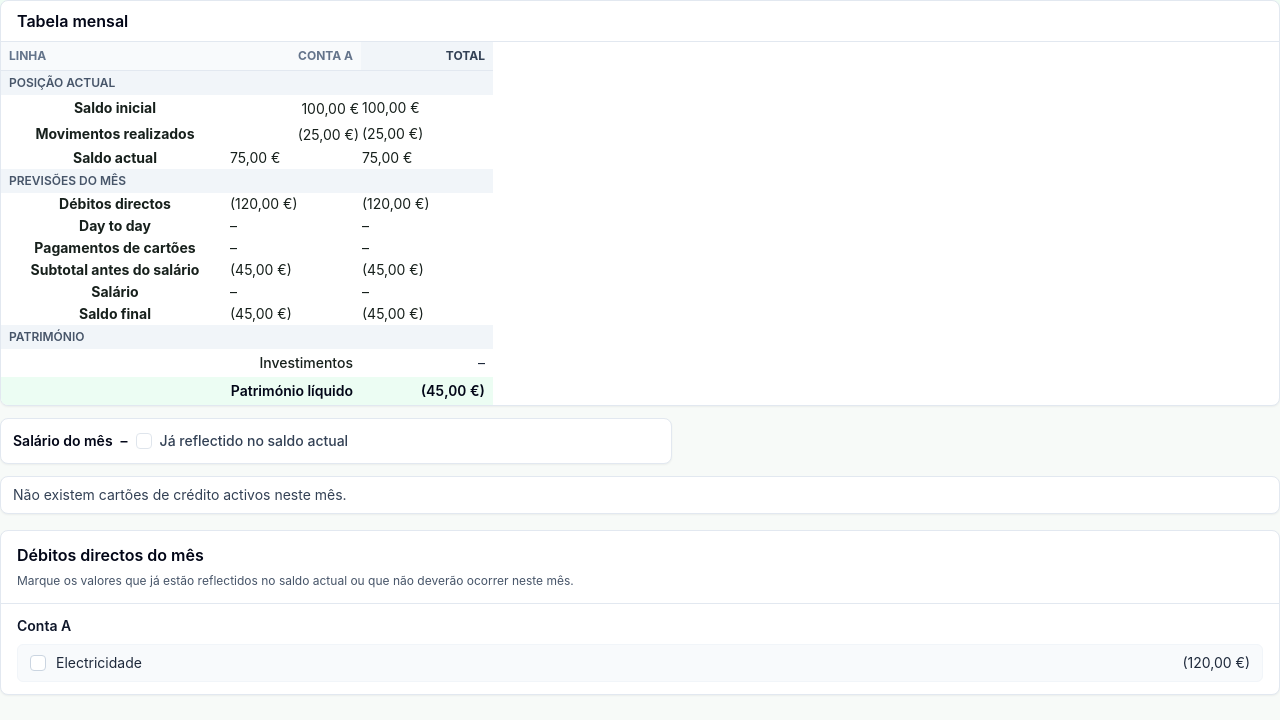
Test: MonthlyBudgetTable › keeps the latest checkbox state when changes resolve out of order
This screenshot has width=1280, height=720.
Click the checkbox named "Excluir Electricidade da previsão deste mês". click: (38, 663)
box: [30,655,46,671]
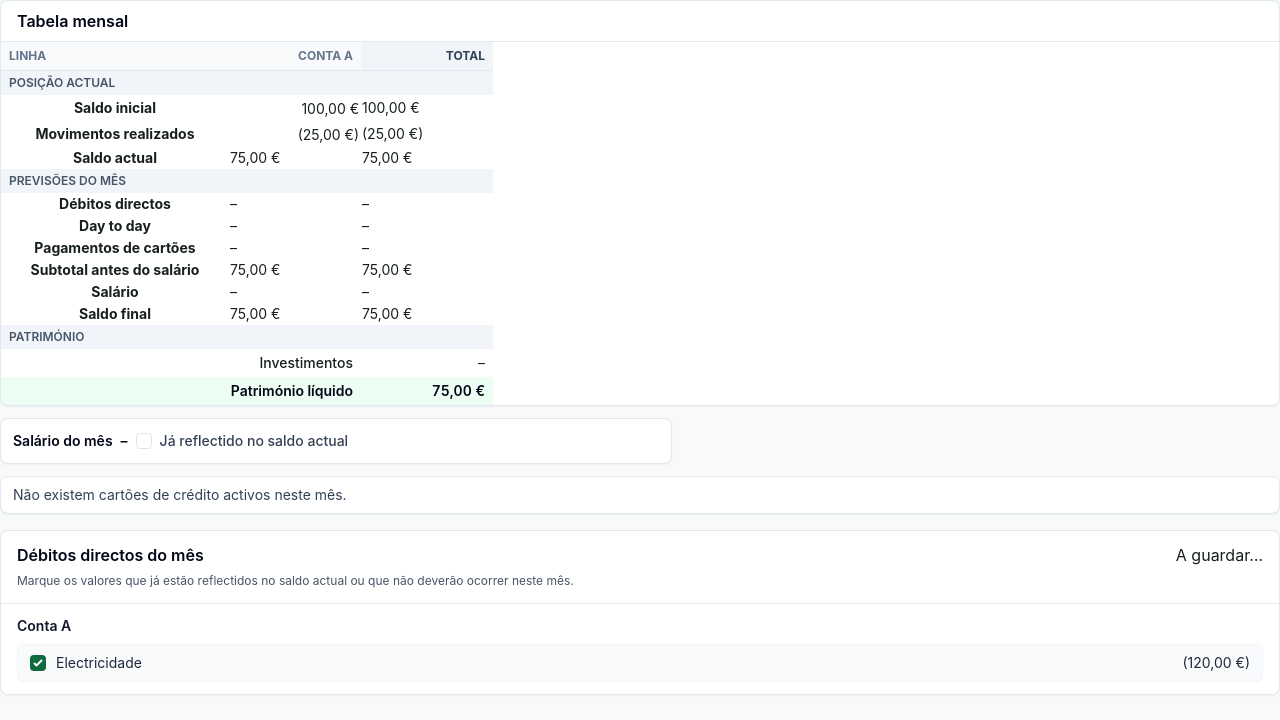
Click the checkbox named "Excluir Electricidade da previsão deste mês". click: (38, 663)
box: [30,655,46,671]
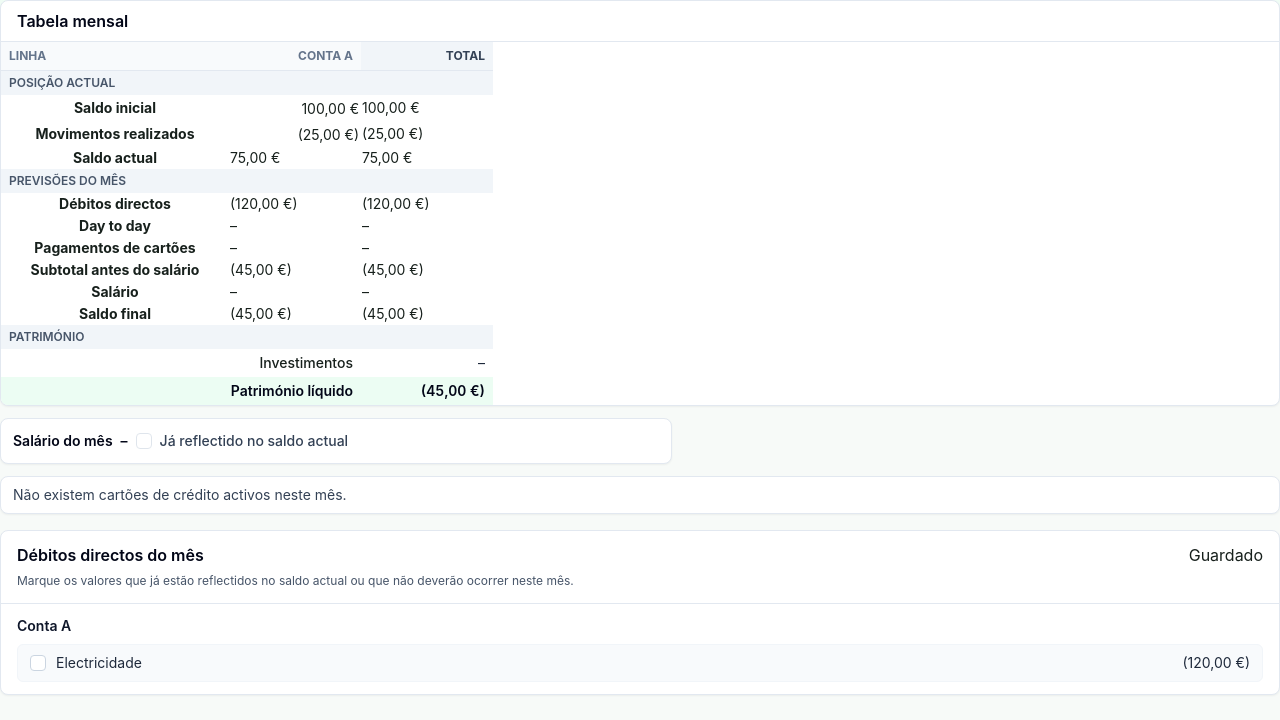
Check: the checkbox named "Excluir Electricidade da previsão deste mês" is not checked, box [30,655,46,671]
Check: the text "Guardado" is shown, box [1189,543,1263,567]
